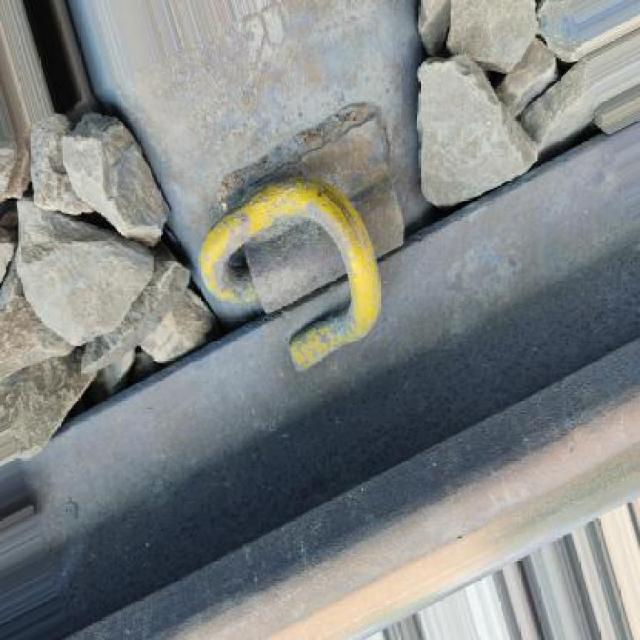non-defective: (4, 197, 640, 640)
